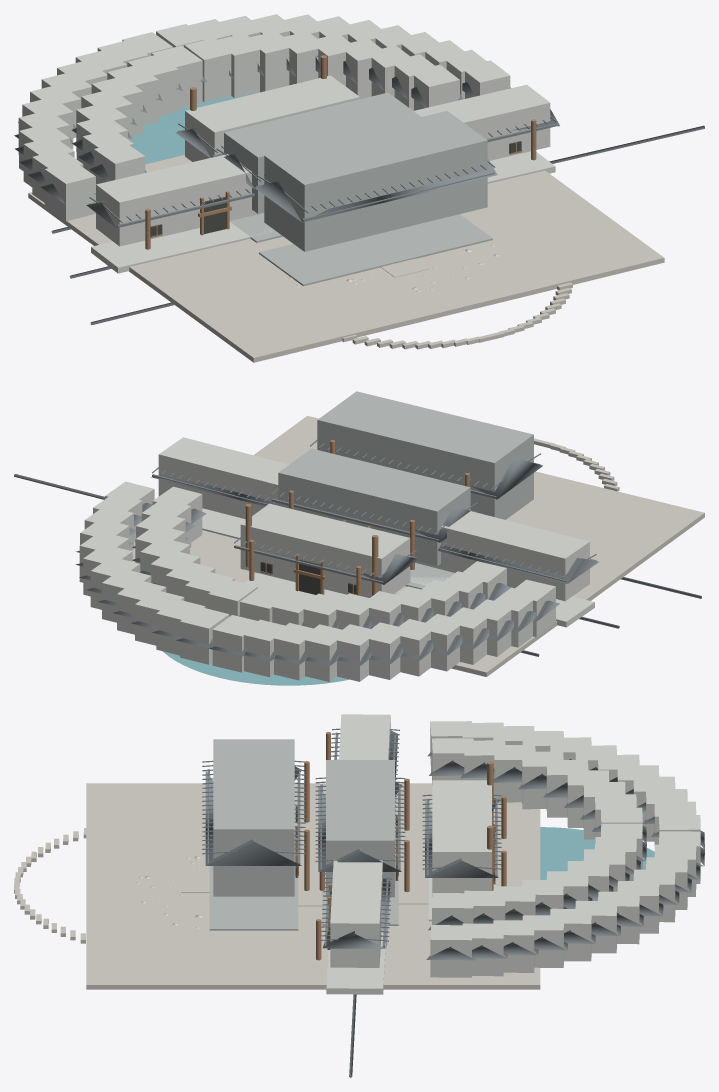
File: hakka-village.glb
3 views of the same model, one above another, from view 1: azimuth 30°, elevation 25°; view 2: azimuth 150°, elevation 25°; view 3: azimuth 270°, elevation 25° (orthographic). The views are drawn at different scales.
Visible parts, largest first — view 1: Hakka_GreyWhiteBrick, Hakka_Cobblestone, Hakka_GreyBrickDark, Hakka_RoofTile, Hakka_FengshuiWater, Hakka_Wood, Hakka_Opening; view 2: Hakka_GreyWhiteBrick, Hakka_GreyBrickDark, Hakka_Cobblestone, Hakka_RoofTile, Hakka_Wood, Hakka_FengshuiWater, Hakka_Opening; view 3: Hakka_GreyWhiteBrick, Hakka_Cobblestone, Hakka_GreyBrickDark, Hakka_RoofTile, Hakka_Wood, Hakka_FengshuiWater.
Part boxes in pixels (x1,y1,x2,y2): Hakka_GreyWhiteBrick: [18, 14, 555, 273]; Hakka_Cobblestone: [28, 155, 664, 362]; Hakka_GreyBrickDark: [224, 92, 492, 286]; Hakka_RoofTile: [14, 55, 704, 325]; Hakka_FengshuiWater: [132, 92, 260, 164]; Hakka_Wood: [145, 55, 536, 249]; Hakka_Opening: [150, 141, 521, 236]; Hakka_GreyWhiteBrick: [79, 437, 594, 681]; Hakka_GreyBrickDark: [278, 391, 537, 589]; Hakka_Cobblestone: [132, 416, 704, 676]; Hakka_RoofTile: [14, 439, 701, 665]; Hakka_Wood: [245, 440, 469, 595]; Hakka_FengshuiWater: [163, 651, 348, 685]; Hakka_Opening: [260, 559, 356, 594]; Hakka_GreyWhiteBrick: [326, 714, 700, 994]; Hakka_Cobblestone: [14, 783, 540, 989]; Hakka_GreyBrickDark: [209, 739, 398, 930]; Hakka_RoofTile: [202, 728, 704, 1077]; Hakka_Wood: [295, 732, 506, 960]; Hakka_FengshuiWater: [540, 827, 654, 879].
Size of the model in its own units: 49.09 by 7.65 by 44.14.
